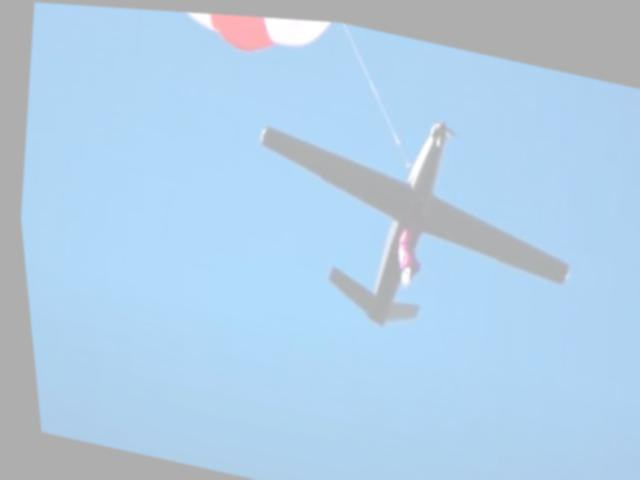iha: (227, 77, 591, 361)
